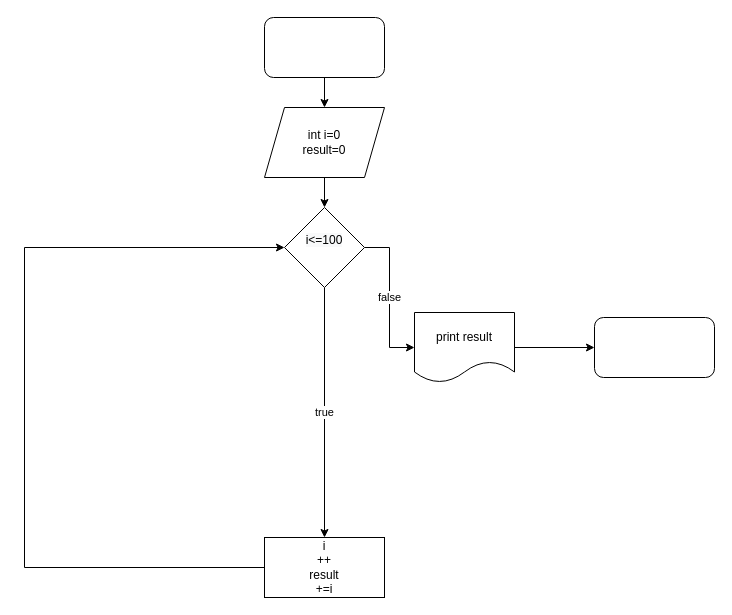
This 732x615 diagram has some shape labels left out. The shapes that lost their labels are listed below. From the top down, each one's centre as x and y in pixels, then its label:
At (x=324, y=47): "Start".
At (x=654, y=347): "end".
